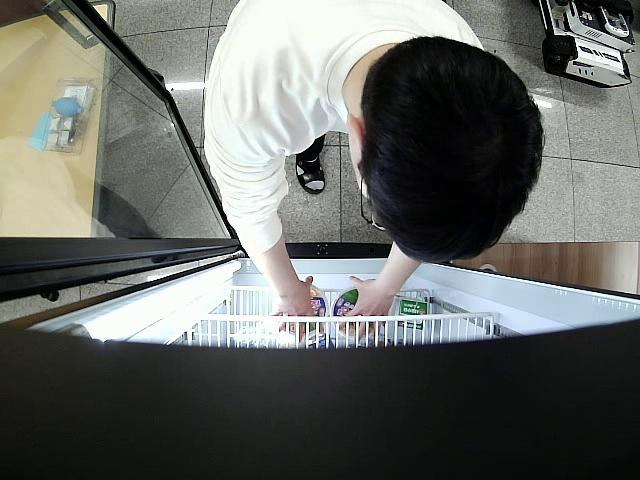09_yukGaeJang: (278, 283, 328, 339), (332, 284, 382, 336)
